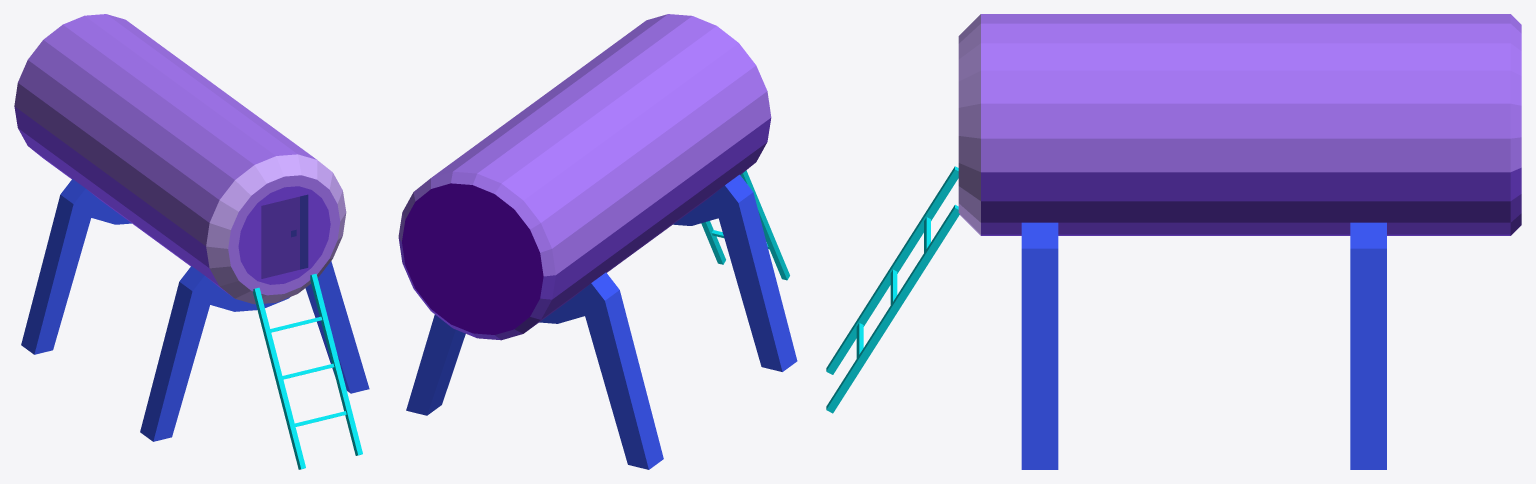
Rendered from Building_014_d.fbx.
3 views of the same model, side by side, from view 1: azimuth 30°, elevation 25°; view 2: azimuth 150°, elevation 25°; view 3: azimuth 270°, elevation 25° (orthographic). The views are drawn at different scales.
Parts seen in each view (by area): view 1: Building_014_d; view 2: Building_014_d; view 3: Building_014_d.
Part boxes in pixels (<box>): Building_014_d: <box>14,14,369,469</box>; Building_014_d: <box>398,14,797,469</box>; Building_014_d: <box>826,14,1521,469</box>.
Bounding box in the file's own units: 8.79 × 10.5 × 17.72.
